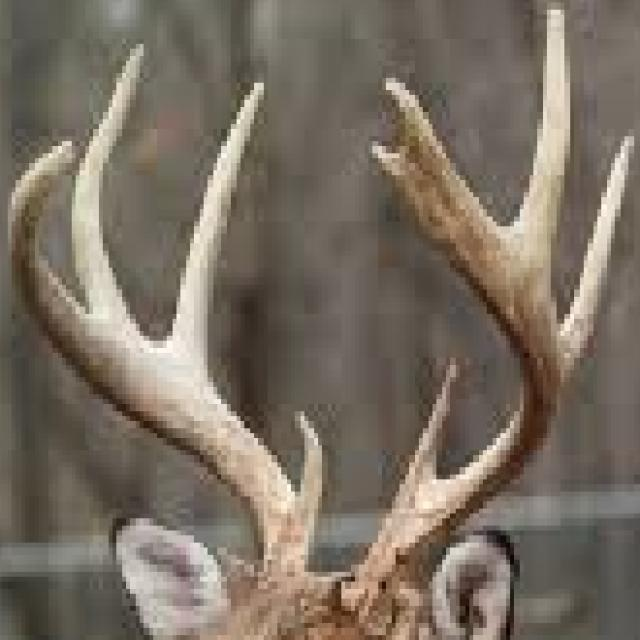E1: (375, 73, 455, 162)
L-F: (339, 137, 559, 630)
L-G1: (399, 354, 463, 483)
L-G2: (558, 132, 638, 402)
L-G3: (499, 6, 574, 316)
R-G1: (292, 407, 325, 537)
R-G2: (159, 79, 267, 387)
R-G3: (68, 38, 147, 333)
